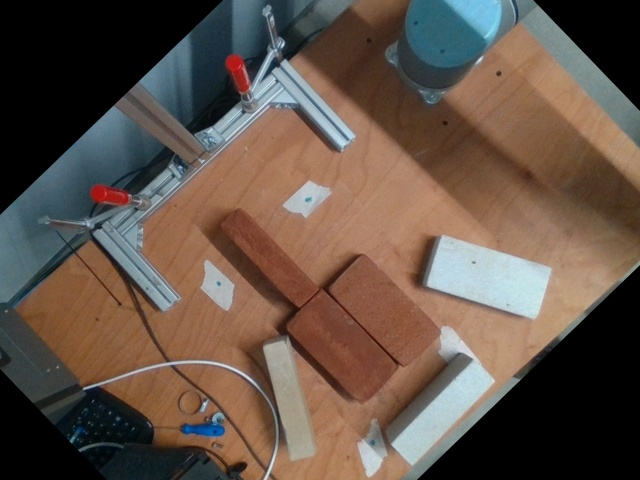brick: (285, 291, 398, 406), (329, 254, 439, 366)
brick-side: (392, 362, 495, 464), (427, 236, 551, 319), (220, 208, 316, 307), (263, 342, 315, 460)
